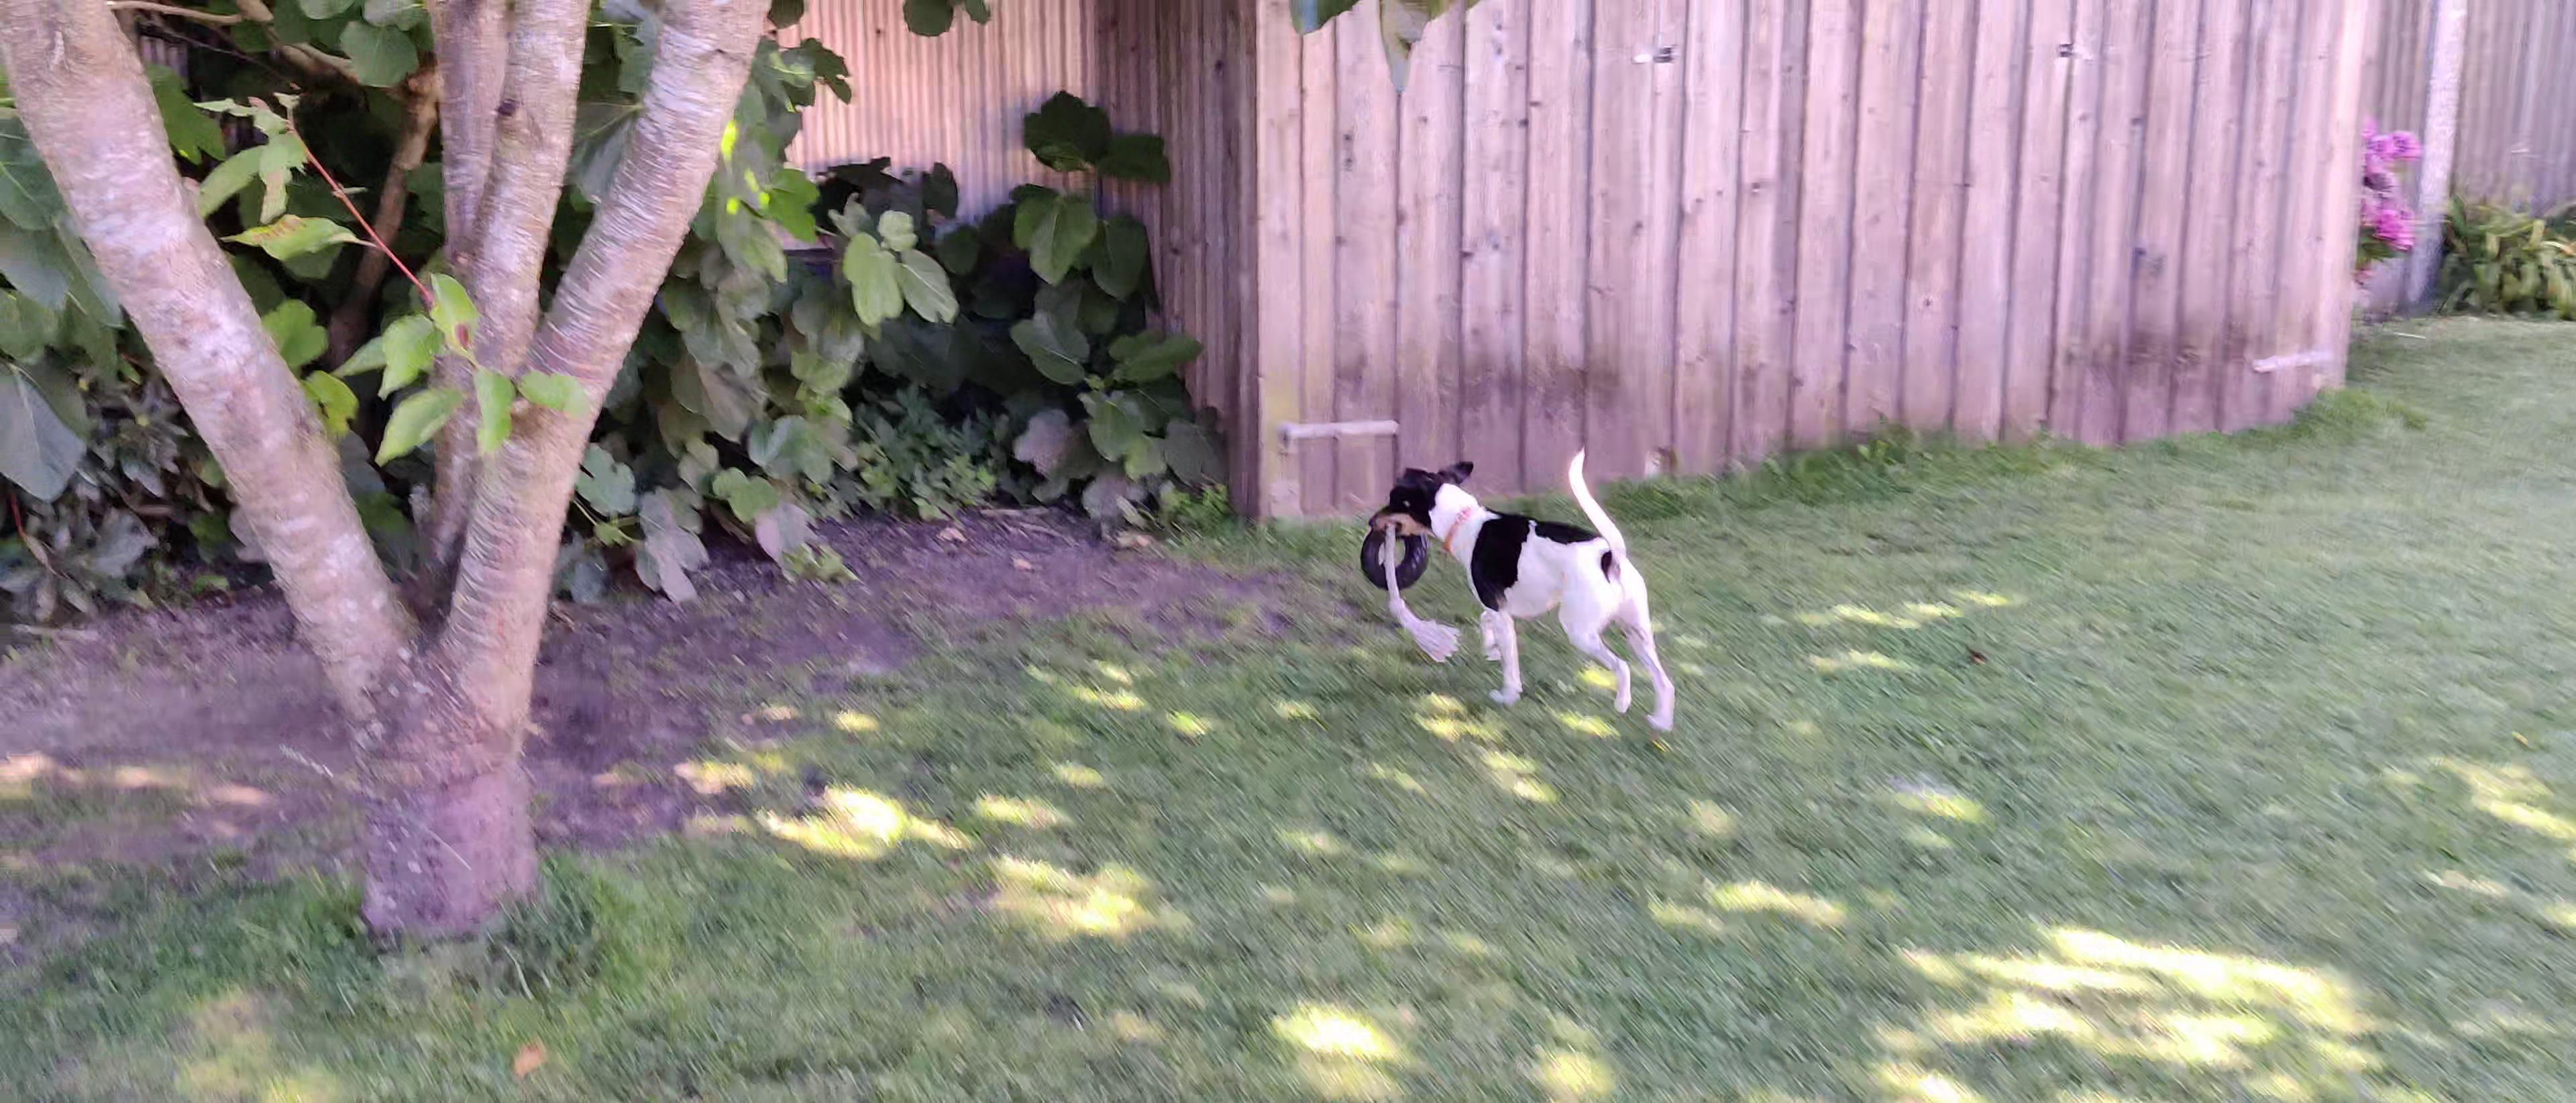Dog: (1365, 444, 1682, 735)
